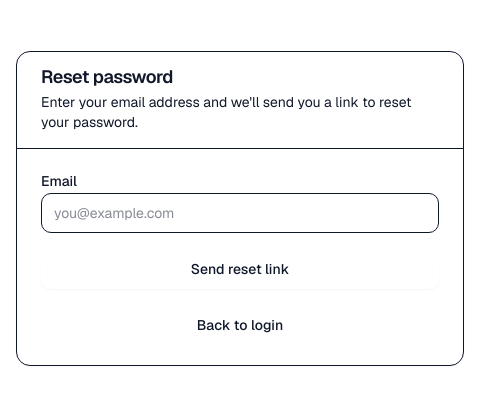
Scenario: ResetPasswordPage › should show error when reset fails
Type "reset@example.com" into the field labelled "Email" at (240, 212), box [41,192,439,232]
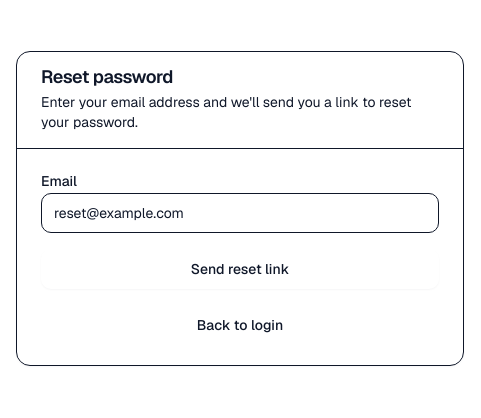
Submit the form from the button "Send reset link", box [41,248,439,288]
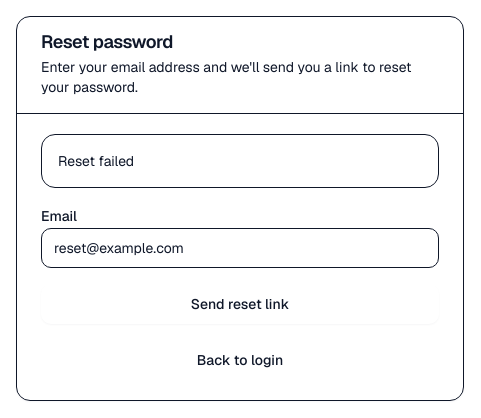
Check: the text "Reset failed" is shown, box [58,152,134,170]
